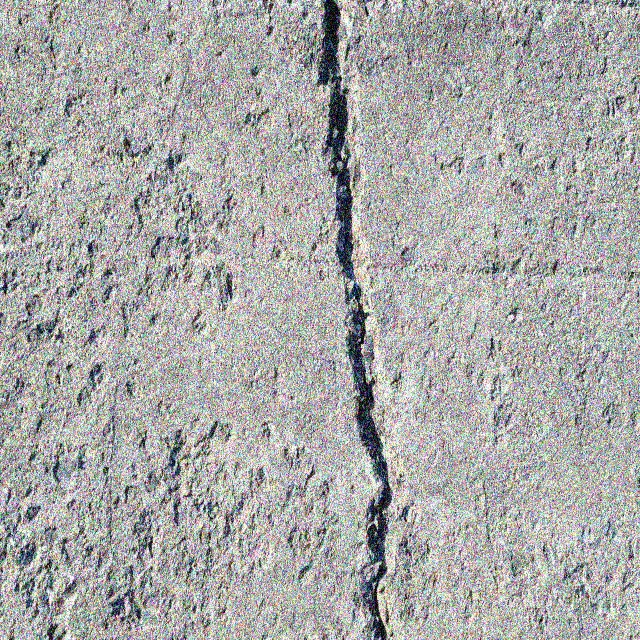SurfaceCrack: (253, 0, 440, 640)
